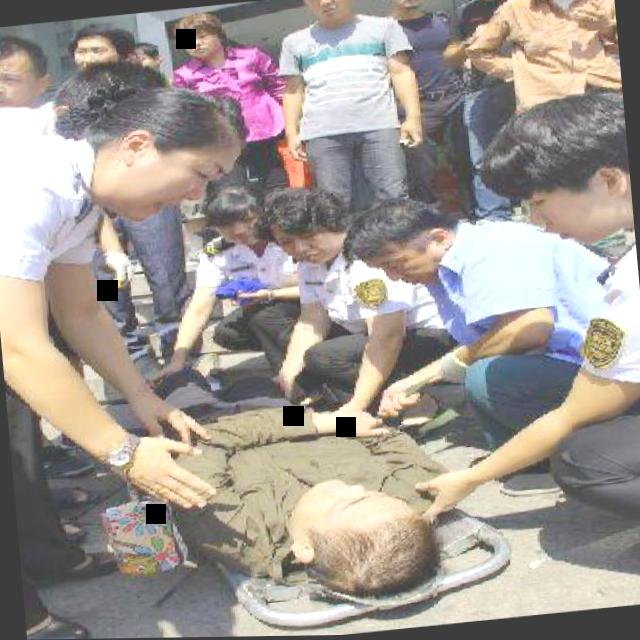Fall-Detected: (118, 301, 506, 636)
